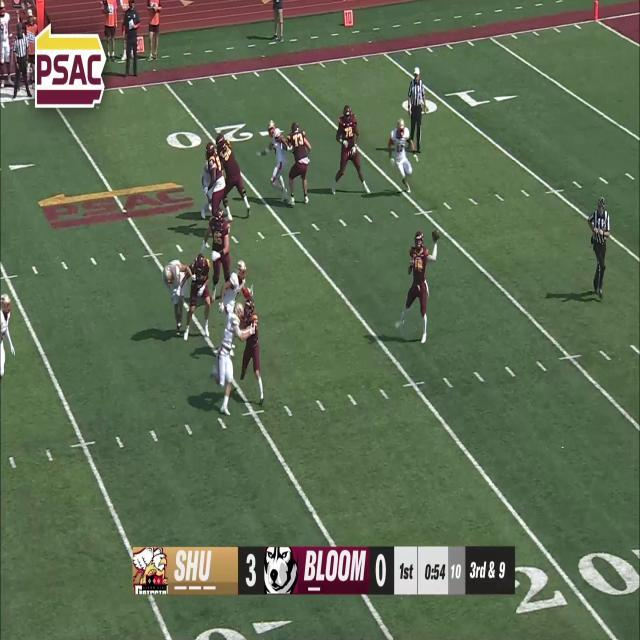football: (431, 228, 440, 242)
